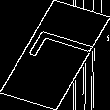L_SE: (15, 31, 95, 79)
